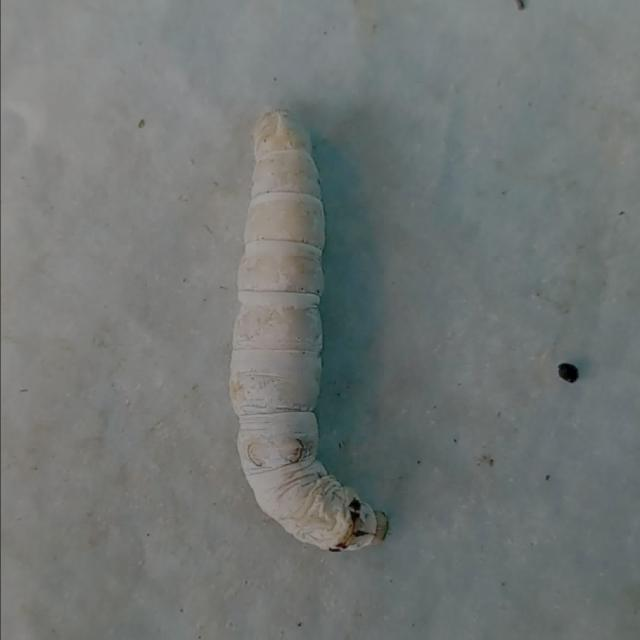Grasserie: (217, 80, 420, 568)
